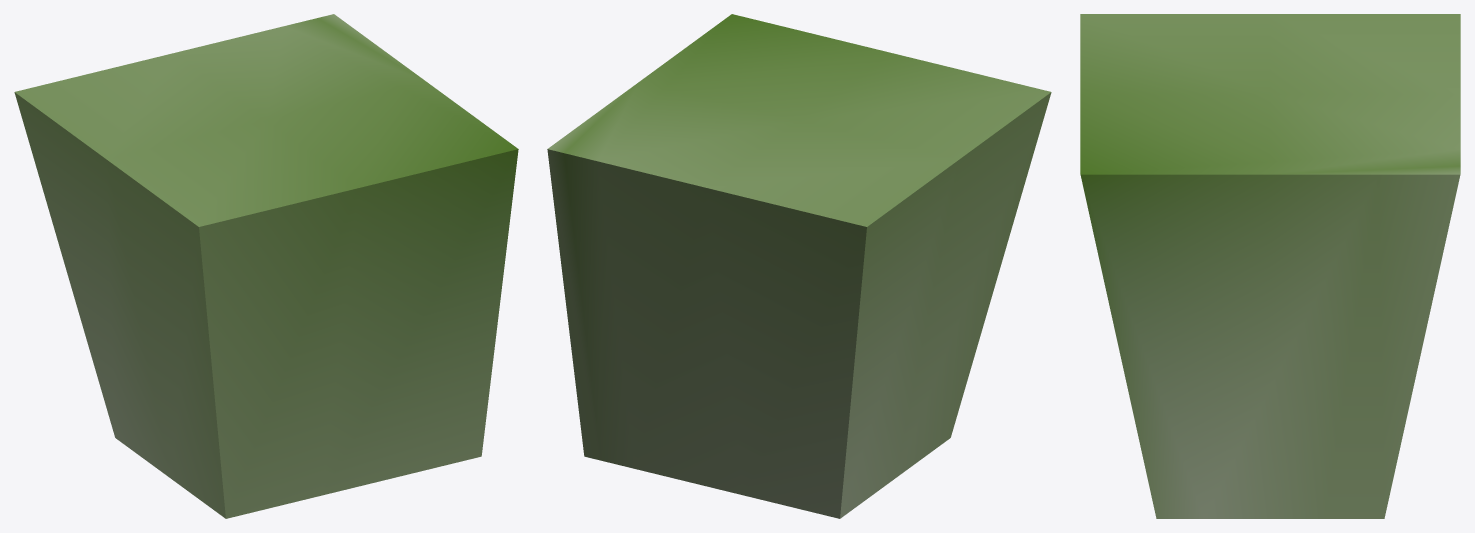
Rendered from T0DirB.fbx.
The picture shows the model from 3 angles, left to right: view 1: azimuth 30°, elevation 25°; view 2: azimuth 150°, elevation 25°; view 3: azimuth 270°, elevation 25°; orthographic projection. The views are drawn at different scales.
Visible parts, largest first — view 1: 3, 1, 4, 2; view 2: 4, 2, 3, 1; view 3: 1, 2, 4, 3.
Part boxes in pixels (x1,y1,x2,y2): 3: [107, 120, 358, 518]; 1: [267, 81, 518, 495]; 4: [14, 53, 265, 477]; 2: [174, 14, 425, 120]; 4: [707, 120, 958, 518]; 2: [547, 81, 798, 495]; 3: [800, 53, 1051, 477]; 1: [640, 14, 891, 120]; 1: [1080, 94, 1270, 518]; 2: [1270, 94, 1460, 518]; 4: [1270, 14, 1460, 94]; 3: [1080, 14, 1270, 94].
Size of the model in its own units: 200 by 200 by 200.
